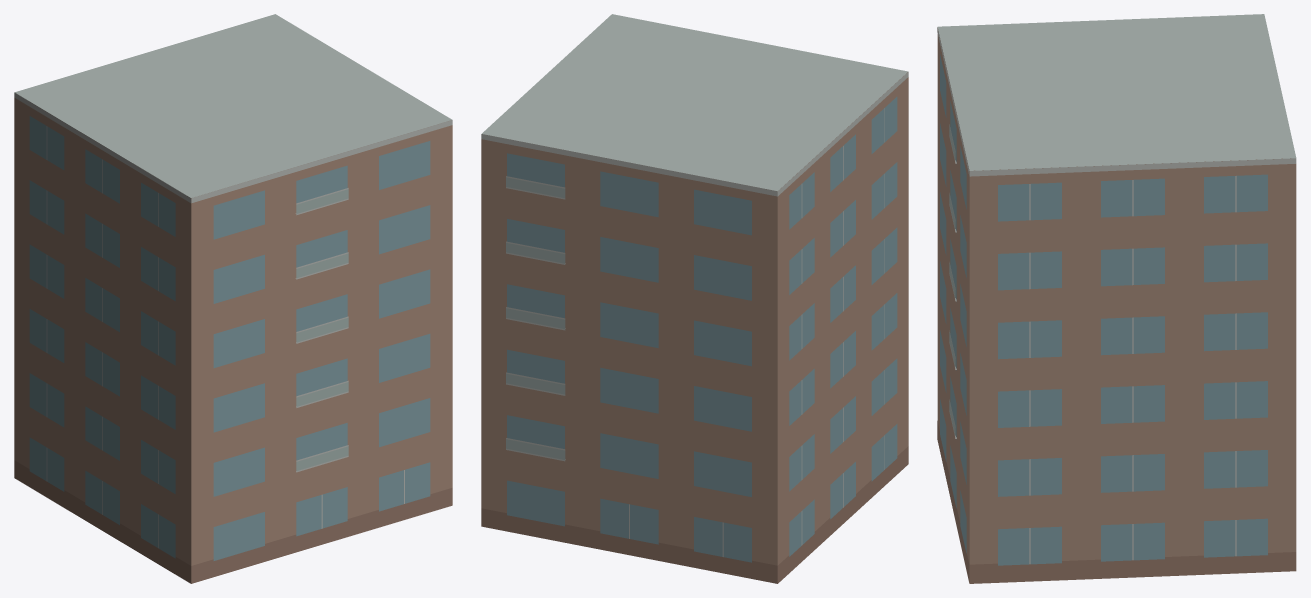
Rendered from survey-upis-32737270.glb.
3 renders of one model, left to right at view 1: azimuth 30°, elevation 25°; view 2: azimuth 150°, elevation 25°; view 3: azimuth 270°, elevation 25°, orthographic. The views are drawn at different scales.
Parts seen in each view (by area): view 1: survey-upis-32737270.tmp; view 2: survey-upis-32737270.tmp; view 3: survey-upis-32737270.tmp.
Boxes of the visible parts, bbox=[...] form: survey-upis-32737270.tmp: bbox=[14, 14, 452, 583]; survey-upis-32737270.tmp: bbox=[481, 14, 908, 583]; survey-upis-32737270.tmp: bbox=[937, 14, 1296, 583].
Size of the model in its own units: 14.68 by 18 by 14.19.
